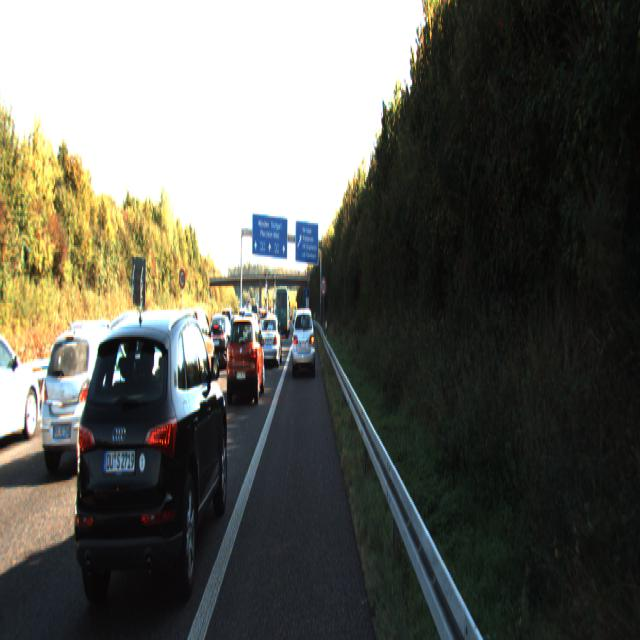Car: (66, 306, 230, 638), (36, 322, 141, 478), (60, 315, 128, 414), (0, 320, 42, 454), (225, 313, 265, 405), (175, 305, 215, 388), (206, 312, 235, 369), (292, 305, 315, 376), (259, 313, 282, 366), (276, 282, 289, 334)
